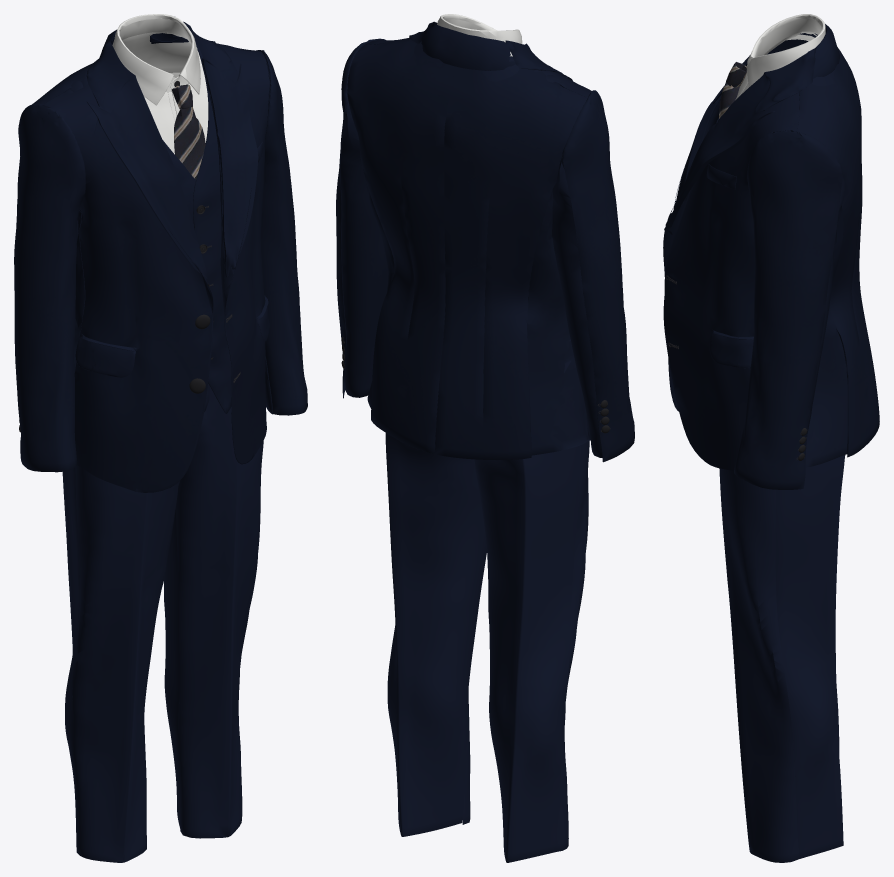
Rendered from MW_Tailleur_suit_v4_blender_collarfix4_peak_step2b.glb.
The picture shows the model from 3 angles, left to right: view 1: azimuth 30°, elevation 25°; view 2: azimuth 150°, elevation 25°; view 3: azimuth 270°, elevation 25°; orthographic projection. The views are drawn at different scales.
Parts seen in each view (by area): view 1: Jacket, Trousers, Shirt, Waistcoat, Tie, Trim; view 2: Jacket, Trousers, Shirt, Waistcoat; view 3: Jacket, Trousers, Shirt, Tie.
Boxes of the visible parts, x1,y1,x2,y2 form: Jacket: (14, 21, 307, 492); Trousers: (62, 383, 263, 862); Shirt: (112, 14, 208, 154); Waistcoat: (75, 41, 231, 413); Tie: (172, 84, 205, 179); Trim: (19, 81, 210, 432); Jacket: (336, 21, 634, 462); Trousers: (385, 339, 589, 862); Shirt: (437, 14, 522, 56); Waistcoat: (414, 41, 519, 81); Jacket: (663, 24, 879, 489); Trousers: (719, 455, 845, 862); Shirt: (735, 14, 825, 100); Tie: (719, 62, 746, 118).
Bounding box in the file's own units: 0.5389 × 1.5 × 0.3678.
Materials: 8 (4 with a texture image).
